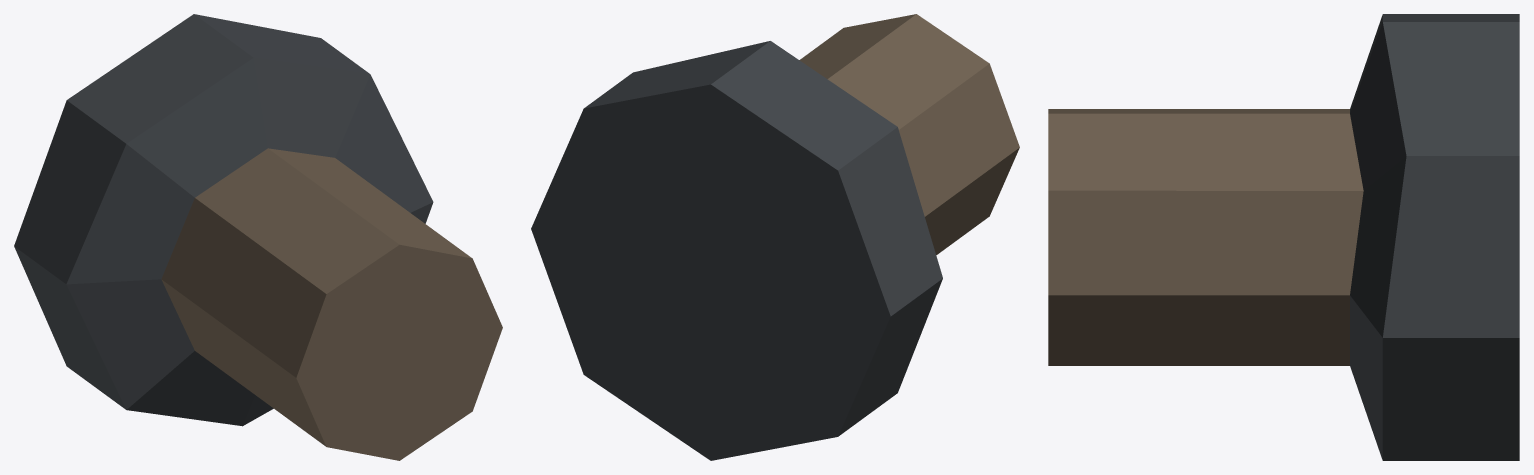
File: kingdom_SM_Bld_Waterwheel_Attach_01.gltf
3 views of the same model, side by side, from view 1: azimuth 30°, elevation 25°; view 2: azimuth 150°, elevation 25°; view 3: azimuth 270°, elevation 25° (orthographic). The views are drawn at different scales.
Visible parts, largest first — view 1: SM_Bld_Waterwheel_Attach_01; view 2: SM_Bld_Waterwheel_Attach_01; view 3: SM_Bld_Waterwheel_Attach_01.
Part boxes in pixels (<box>): SM_Bld_Waterwheel_Attach_01: <box>14,14,502,460</box>; SM_Bld_Waterwheel_Attach_01: <box>531,14,1019,460</box>; SM_Bld_Waterwheel_Attach_01: <box>1048,14,1519,460</box>.
Bounding box in the file's own units: 1.82 × 1.82 × 1.81.
Materials: 1 (1 with a texture image).
